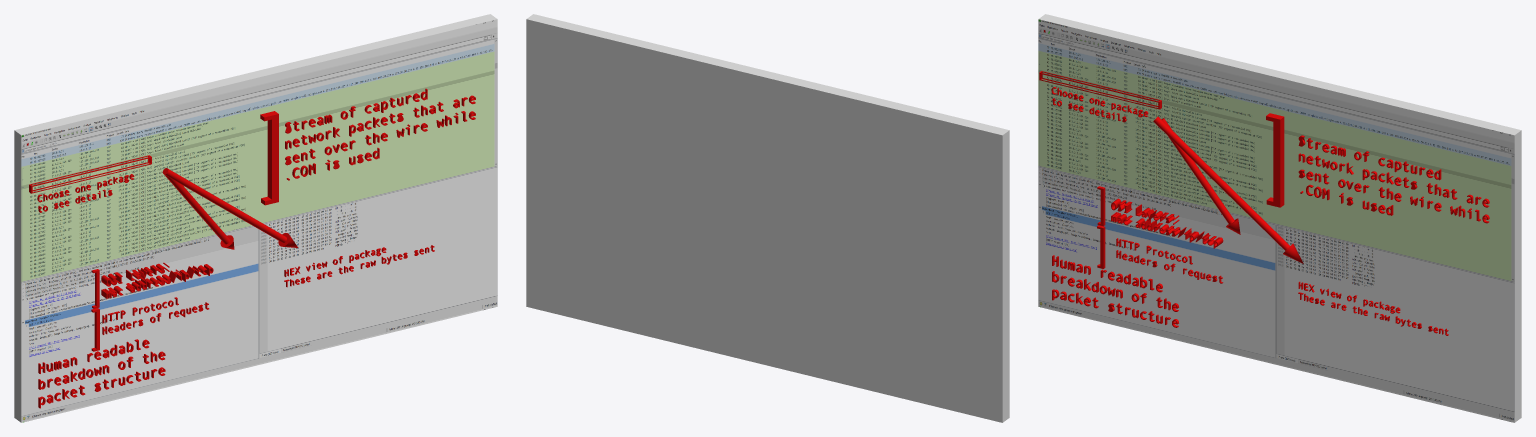
File: commented_screenshot.fbx
The picture shows the model from 3 angles, left to right: view 1: azimuth 30°, elevation 25°; view 2: azimuth 150°, elevation 25°; view 3: azimuth 330°, elevation 25°; orthographic projection.
Visible parts, largest first — view 1: COMMENTED_SCREENSHOT, STREAM_OF_CAPTURED, HUMAN_READABLE, OSI_LAYERS, ARROW1, pCube3, hew_view, HTTP, MARKER_BOX, ARROW, hew_view1; view 2: COMMENTED_SCREENSHOT; view 3: COMMENTED_SCREENSHOT, STREAM_OF_CAPTURED, HUMAN_READABLE, OSI_LAYERS, ARROW1, pCube3, hew_view, HTTP, MARKER_BOX, ARROW, hew_view1.
Boxes of the visible parts, bbox=[...] form: COMMENTED_SCREENSHOT: bbox=[14, 14, 497, 422]; STREAM_OF_CAPTURED: bbox=[285, 88, 475, 180]; HUMAN_READABLE: bbox=[38, 339, 165, 408]; OSI_LAYERS: bbox=[101, 262, 213, 298]; ARROW1: bbox=[163, 168, 297, 247]; pCube3: bbox=[260, 111, 278, 205]; hew_view: bbox=[284, 245, 434, 287]; HTTP: bbox=[102, 297, 209, 334]; MARKER_BOX: bbox=[29, 155, 151, 193]; ARROW: bbox=[162, 170, 234, 249]; hew_view1: bbox=[37, 174, 134, 212]; COMMENTED_SCREENSHOT: bbox=[526, 14, 1009, 422]; COMMENTED_SCREENSHOT: bbox=[1038, 14, 1521, 422]; STREAM_OF_CAPTURED: bbox=[1298, 135, 1489, 223]; HUMAN_READABLE: bbox=[1052, 255, 1178, 327]; OSI_LAYERS: bbox=[1111, 198, 1223, 248]; ARROW1: bbox=[1153, 116, 1303, 263]; pCube3: bbox=[1266, 113, 1284, 207]; hew_view: bbox=[1298, 281, 1448, 335]; HTTP: bbox=[1116, 238, 1223, 283]; MARKER_BOX: bbox=[1039, 71, 1161, 109]; ARROW: bbox=[1161, 118, 1240, 234]; hew_view1: bbox=[1051, 87, 1148, 122].
Bounding box in the file's own units: 62.92 × 36.31 × 5.09.
